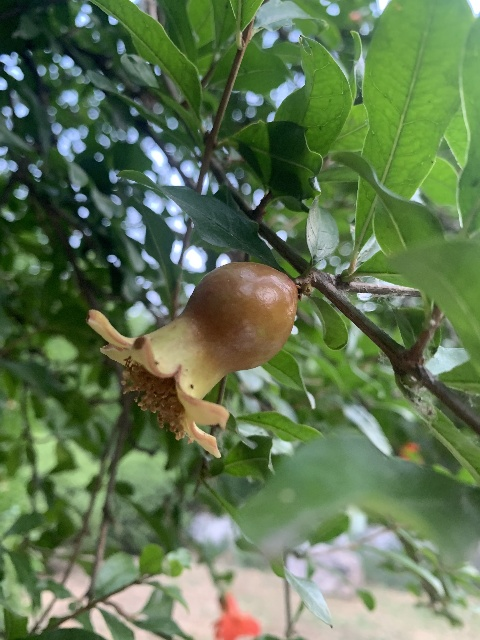early-fruit: (85, 260, 302, 459)
flower: (213, 594, 262, 640)
